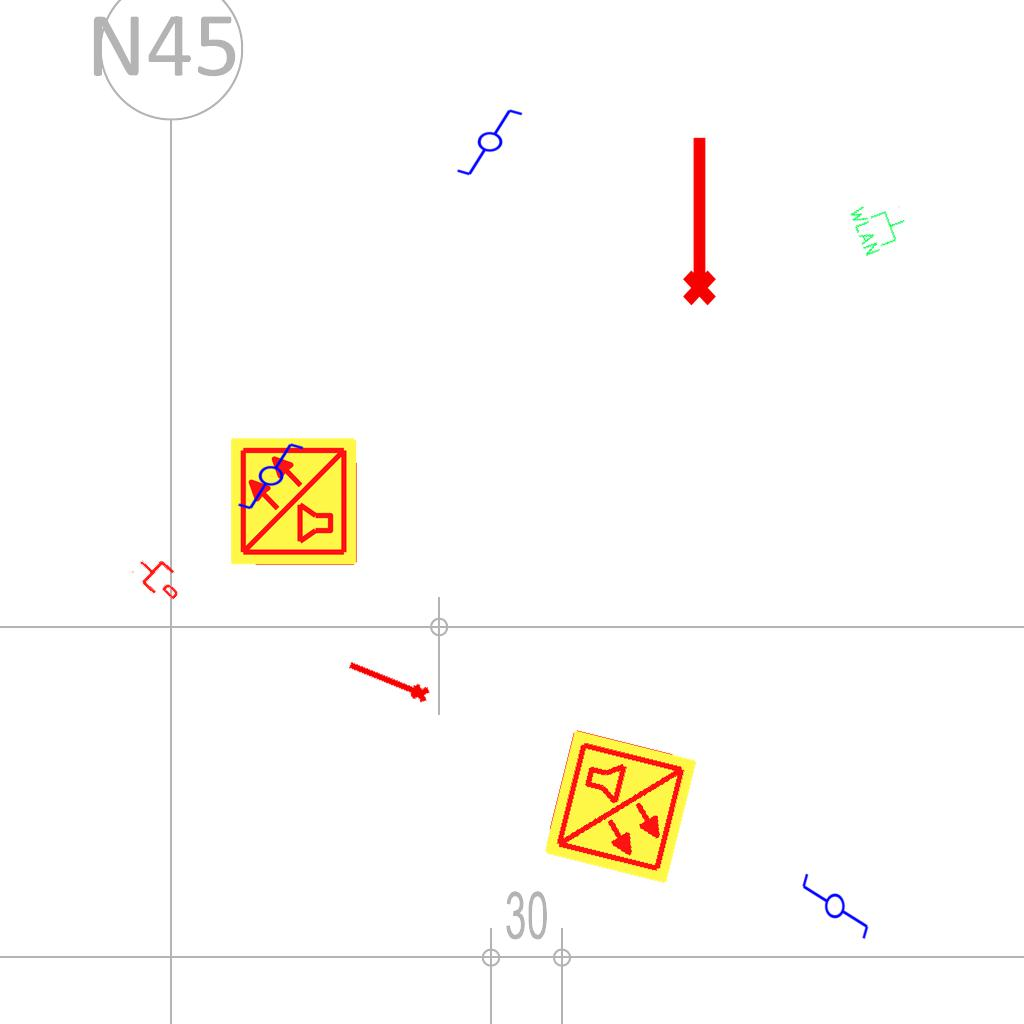ASR_Ansaugoeffnung: (674, 132, 720, 308), (342, 654, 434, 709)
Datenanschluss_einfach: (129, 548, 189, 608)
OKW_Multisensormelder_(Kombination_optischer_Rauch-Kahlenmonoxid_Waerme-Melder): (539, 726, 701, 888), (228, 435, 360, 567)
WLAN: (846, 191, 914, 259)
Wechselschalter: (800, 863, 872, 941), (455, 107, 533, 179), (236, 441, 314, 513)
